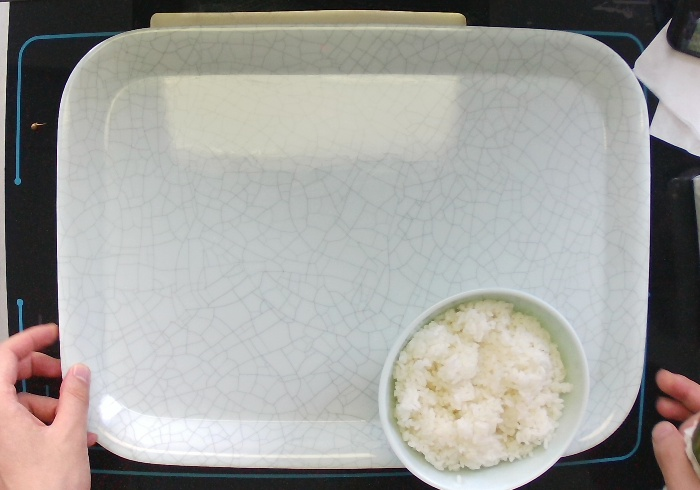JYsf-Fan_Wan: (375, 286, 593, 490)
